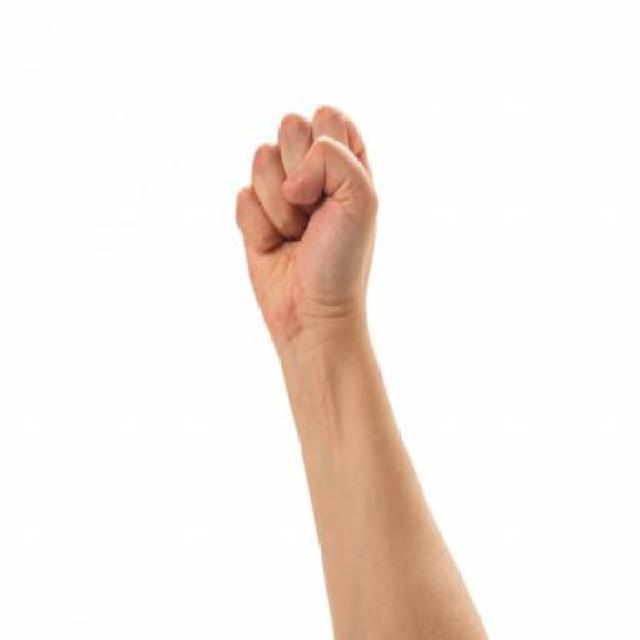no_apron: (240, 84, 398, 369)
